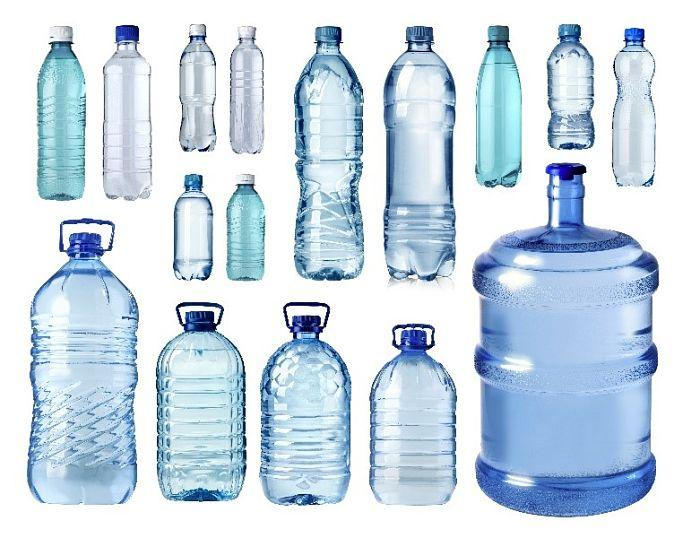paper: (384, 27, 455, 280), (293, 26, 363, 280), (157, 304, 244, 501), (38, 27, 85, 199), (104, 26, 151, 198), (546, 24, 594, 149), (227, 175, 264, 280)
